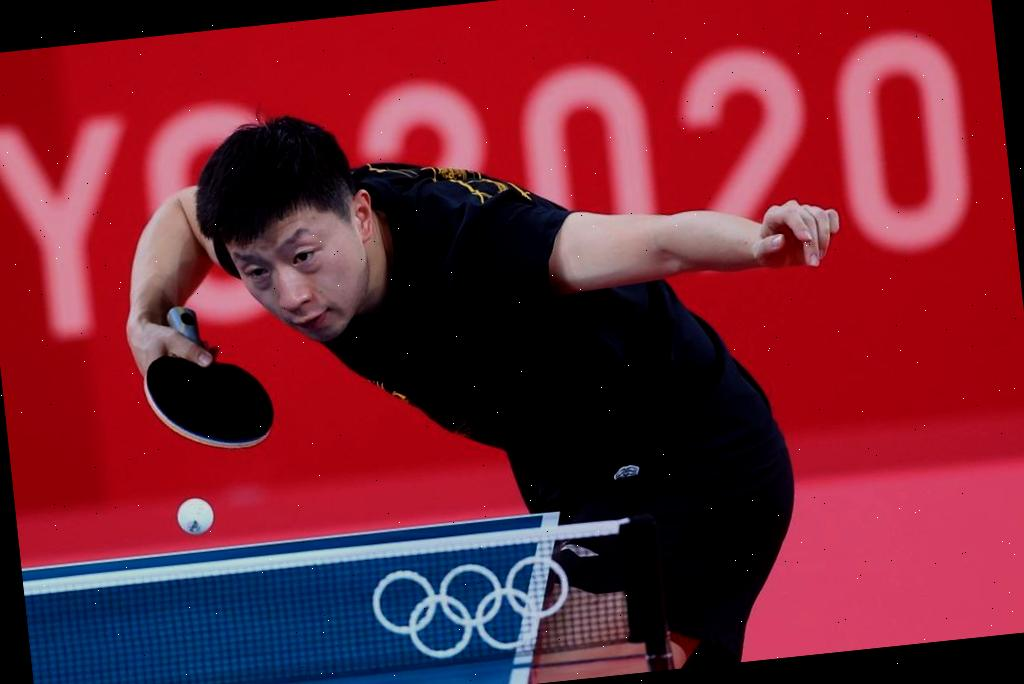ball: (168, 491, 218, 541)
